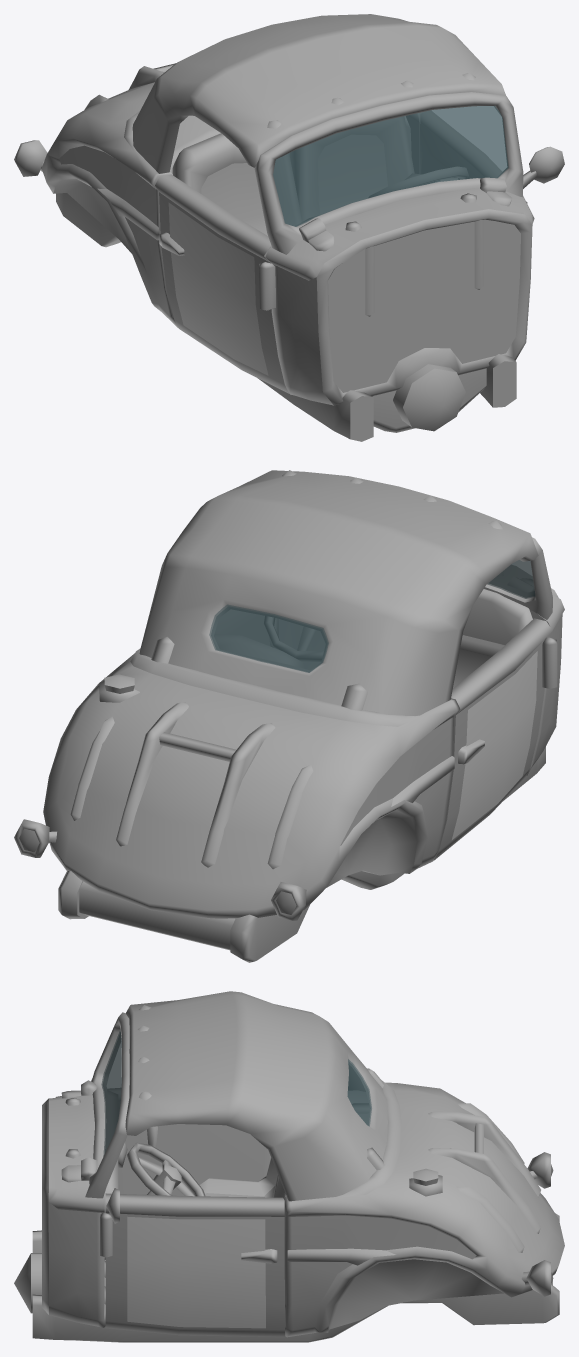
Rendered from Body_Bugster_Softtop.fbx.
3 views of the same model, one above another, from view 1: azimuth 30°, elevation 25°; view 2: azimuth 150°, elevation 25°; view 3: azimuth 270°, elevation 25° (orthographic). The views are drawn at different scales.
Parts seen in each view (by area): view 1: Bugster_Softtop_Body_Mesh, Bugster_Softtop_Roof_Mesh, Bugster_Softtop_Body_Window_Mesh, Bugster_Door_Right_Decal_Mesh, Bugster_Softtop_Door_Right_Mesh, Bugster_Softtop_Door_Left_Mesh, Steer_Wheel_Mesh; view 2: Bugster_Softtop_Body_Mesh, Bugster_Softtop_Roof_Mesh, Bugster_Door_Right_Decal_Mesh, Bugster_Softtop_Door_Right_Mesh, Bugster_Softtop_Roof_Window_Mesh, Bugster_Softtop_Door_Left_Mesh, Bugster_Softtop_Body_Window_Mesh, Steer_Wheel_Mesh; view 3: Bugster_Softtop_Body_Mesh, Bugster_Softtop_Roof_Mesh, Bugster_Door_Left_Decal_Mesh, Bugster_Softtop_Door_Left_Mesh, Bugster_Softtop_Door_Right_Mesh, Steer_Wheel_Mesh, Bugster_Softtop_Body_Window_Mesh, Bugster_Softtop_Roof_Window_Mesh.
Part boxes in pixels (<box>): Bugster_Softtop_Body_Mesh: <box>14,63,534,441</box>; Bugster_Softtop_Roof_Mesh: <box>132,14,505,173</box>; Bugster_Softtop_Body_Window_Mesh: <box>273,106,508,226</box>; Bugster_Door_Right_Decal_Mesh: <box>168,202,268,375</box>; Bugster_Softtop_Door_Right_Mesh: <box>155,174,289,393</box>; Bugster_Softtop_Door_Left_Mesh: <box>420,111,564,188</box>; Steer_Wheel_Mesh: <box>368,167,468,197</box>; Bugster_Softtop_Body_Mesh: <box>14,537,564,962</box>; Bugster_Softtop_Roof_Mesh: <box>139,470,538,715</box>; Bugster_Door_Right_Decal_Mesh: <box>452,651,537,839</box>; Bugster_Softtop_Door_Right_Mesh: <box>433,618,552,860</box>; Bugster_Softtop_Roof_Window_Mesh: <box>209,604,328,672</box>; Bugster_Softtop_Door_Left_Mesh: <box>215,609,303,663</box>; Bugster_Softtop_Body_Window_Mesh: <box>487,560,535,598</box>; Steer_Wheel_Mesh: <box>264,616,323,661</box>; Bugster_Softtop_Body_Mesh: <box>14,1012,564,1342</box>; Bugster_Softtop_Roof_Mesh: <box>125,991,387,1201</box>; Bugster_Door_Left_Decal_Mesh: <box>127,1216,265,1328</box>; Bugster_Softtop_Door_Left_Mesh: <box>105,1188,284,1337</box>; Bugster_Softtop_Door_Right_Mesh: <box>107,1088,270,1195</box>; Steer_Wheel_Mesh: <box>104,1142,205,1259</box>; Bugster_Softtop_Body_Window_Mesh: <box>101,1030,121,1155</box>; Bugster_Softtop_Roof_Window_Mesh: <box>347,1059,371,1126</box>.
Bounding box in the file's own units: 172 × 163 × 282.
